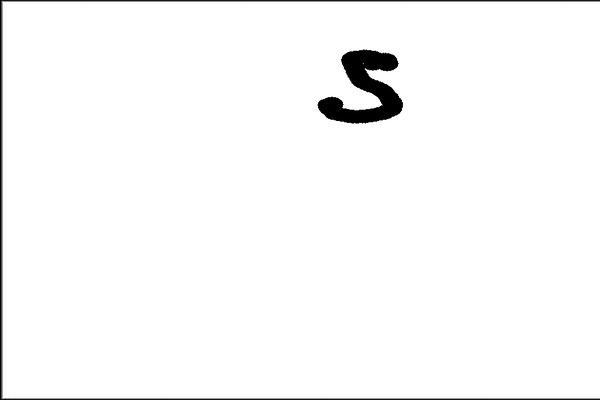S: (307, 42, 410, 129)
